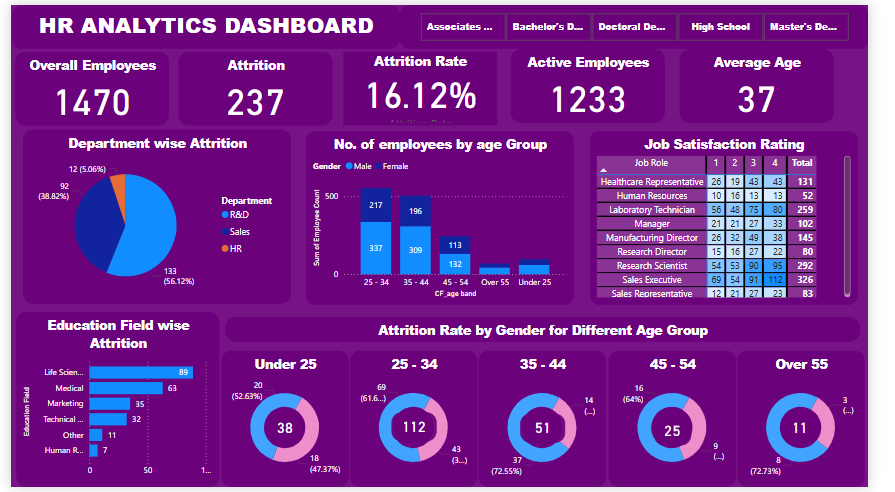

The dashboard page shown, as its layout file describes it:
{"tool":"powerbi","page":{"name":"Page 1","canvas":[1280,720],"ordinal":0},"visuals":[{"type":"card","title":"Overall Employees","fields":{"Values":["Sum(HR data.Employee Count)"]},"box":[6,70,230,110],"z":0},{"type":"card","title":"Attrition","fields":{"Values":["Sum(HR data.Employee Count)"]},"box":[250,70,230,110],"z":1000},{"type":"card","title":"Attrition Rate","fields":{"Values":["HR data.Attrition Rate"]},"box":[496,70,230,110],"z":2000},{"type":"card","title":"Active Employees","fields":{"Values":["HR data.Active Employees"]},"box":[746,66,230,110],"z":3000},{"type":"card","title":"Average Age","fields":{"Values":["Avg(HR data.Age)"]},"box":[998,66,230,110],"z":4000},{"type":"pieChart","title":"Department wise Attrition","fields":{"Category":["HR data.Department"],"Y":["Sum(HR data.Attrition count)"]},"box":[18.2,185.5,400,260],"z":5000},{"type":"columnChart","title":"No. of employees by age Group","fields":{"Category":["HR data.CF_age band"],"Y":["Sum(HR data.Employee Count)"],"Series":["HR data.Gender"]},"box":[440,188,400,260],"z":6000},{"type":"pivotTable","title":"Job Satisfaction Rating","fields":{"Rows":["HR data.Job Role"],"Columns":["HR data.Job Satisfaction"],"Values":["Sum(HR data.Employee Count)"]},"box":[874,198,400,260],"z":7000},{"type":"barChart","title":"Education Field wise Attrition","fields":{"Category":["HR data.Education Field"],"Y":["Sum(HR data.Attrition count)"]},"box":[8.6,458.6,302.9,261.4],"z":8000},{"type":"donutChart","title":"Under 25","fields":{"Category":["HR data.Gender"],"Y":["Sum(HR data.Attrition count)"],"Series":["HR data.CF_age band"]},"box":[313.3,516.7,190,203.3],"z":9000},{"type":"donutChart","title":"25 - 34","fields":{"Category":["HR data.Gender"],"Y":["Sum(HR data.Attrition count)"],"Series":["HR data.CF_age band"]},"box":[505,516.7,190,203.3],"z":10000},{"type":"donutChart","title":"35 - 44","fields":{"Category":["HR data.Gender"],"Y":["Sum(HR data.Attrition count)"],"Series":["HR data.CF_age band"]},"box":[698.3,516.7,190,203.3],"z":11000},{"type":"donutChart","title":"45 - 54","fields":{"Category":["HR data.Gender"],"Y":["Sum(HR data.Attrition count)"],"Series":["HR data.CF_age band"]},"box":[891.7,516.7,190,203.3],"z":12000},{"type":"donutChart","title":"Over 55","fields":{"Category":["HR data.Gender"],"Y":["Sum(HR data.Attrition count)"],"Series":["HR data.CF_age band"]},"box":[1083.3,516.7,190,203.3],"z":13000},{"type":"textbox","title":"Attrition Rate by Gender for Different Age Group","box":[320,466.7,946.7,36.7],"z":14000},{"type":"textbox","title":"HR ANALYTICS DASHBOARD ","box":[2,0,578,66],"z":15000},{"type":"slicer","fields":{"Values":["HR data.Education"]},"box":[580,0,700,66],"z":16000},{"type":"card","fields":{"Values":["Sum(HR data.Attrition count)"]},"box":[382.8,610.3,54.7,43.7],"z":17000},{"type":"card","fields":{"Values":["Sum(HR data.Attrition count)"]},"box":[567.6,607.5,67.5,42.9],"z":18000},{"type":"card","fields":{"Values":["Sum(HR data.Attrition count)"]},"box":[760.9,610.6,67.5,42.9],"z":19000},{"type":"card","fields":{"Values":["Sum(HR data.Attrition count)"]},"box":[960.3,613.6,55.2,42.9],"z":20000},{"type":"card","fields":{"Values":["Sum(HR data.Attrition count)"]},"box":[1150.6,610.6,55.2,42.9],"z":21000}]}

Visuals, with their boxes in screenshot pixels (x1, y1, x2, y2), scaled from the page's 1280x720 canvas onto the 895x492 screenshot:
"Overall Employees" card: bbox=(4, 48, 165, 123)
"Attrition" card: bbox=(175, 48, 336, 123)
"Attrition Rate" card: bbox=(347, 48, 508, 123)
"Active Employees" card: bbox=(522, 45, 682, 120)
"Average Age" card: bbox=(698, 45, 859, 120)
"Department wise Attrition" pieChart: bbox=(13, 127, 292, 304)
"No. of employees by age Group" columnChart: bbox=(308, 128, 587, 306)
"Job Satisfaction Rating" pivotTable: bbox=(611, 135, 891, 313)
"Education Field wise Attrition" barChart: bbox=(6, 313, 218, 491)
"Under 25" donutChart: bbox=(219, 353, 352, 491)
"25 - 34" donutChart: bbox=(353, 353, 486, 491)
"35 - 44" donutChart: bbox=(488, 353, 621, 491)
"45 - 54" donutChart: bbox=(623, 353, 756, 491)
"Over 55" donutChart: bbox=(757, 353, 890, 491)
"Attrition Rate by Gender for Different Age Group" textbox: bbox=(224, 319, 886, 344)
"HR ANALYTICS DASHBOARD " textbox: bbox=(1, 0, 406, 45)
slicer - HR data.Education: bbox=(406, 0, 894, 45)
card - Sum(HR data.Attrition count): bbox=(268, 417, 306, 447)
card - Sum(HR data.Attrition count): bbox=(397, 415, 444, 444)
card - Sum(HR data.Attrition count): bbox=(532, 417, 579, 447)
card - Sum(HR data.Attrition count): bbox=(671, 419, 710, 449)
card - Sum(HR data.Attrition count): bbox=(805, 417, 843, 447)
